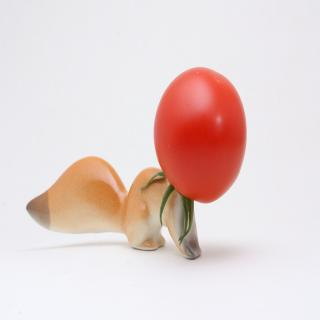tomato: (146, 61, 243, 204)
